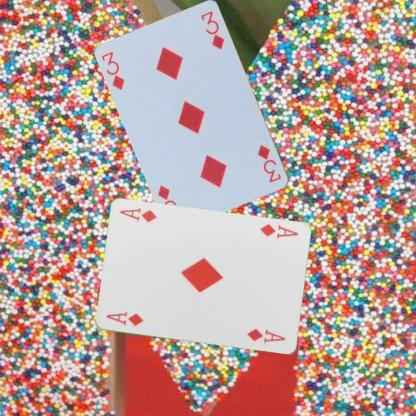3d: (255, 142, 282, 184), (99, 49, 126, 91)
Ad: (104, 309, 144, 328), (257, 222, 299, 240)
